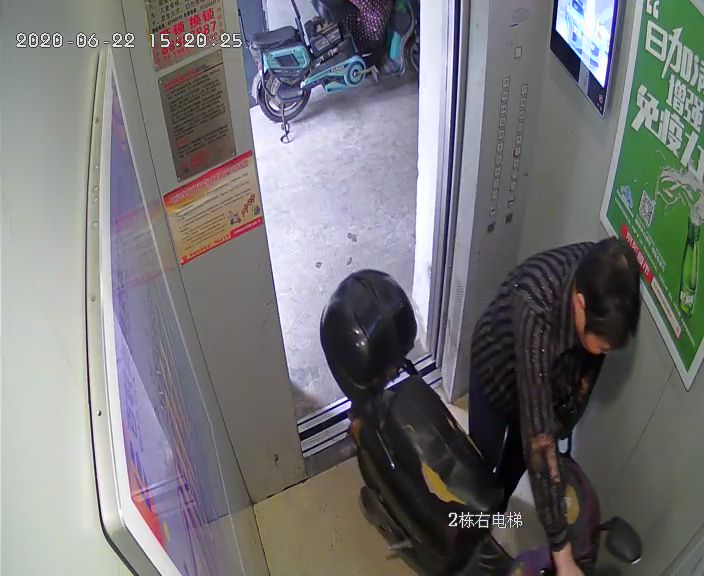Electric-bicycle: (318, 269, 645, 574), (233, 1, 418, 141)
